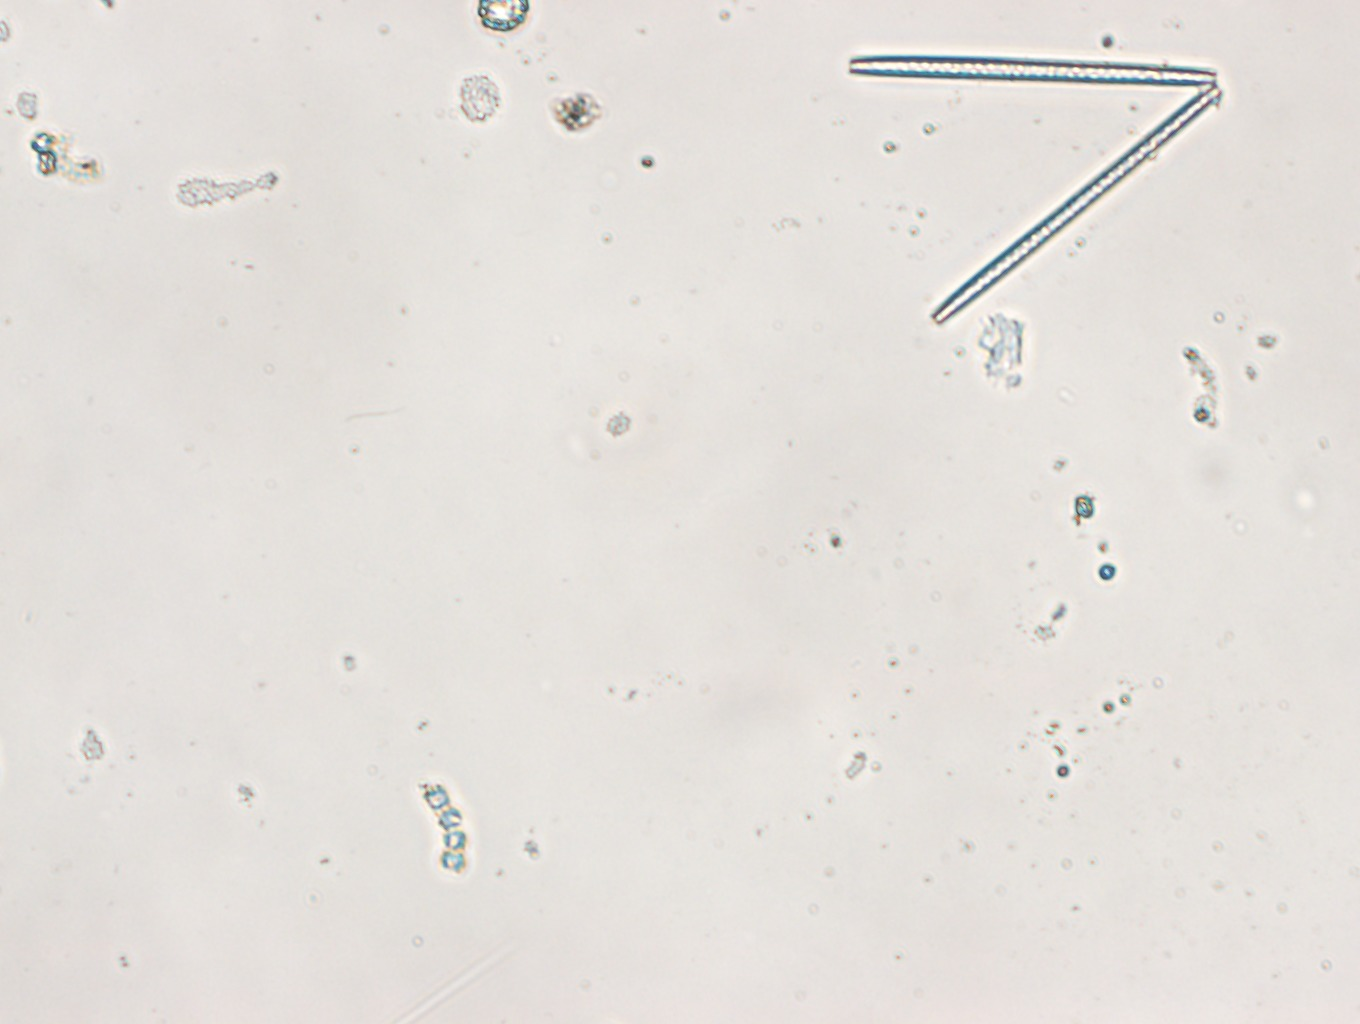thalassionema frauenfeldii: (845, 55, 1226, 327)
